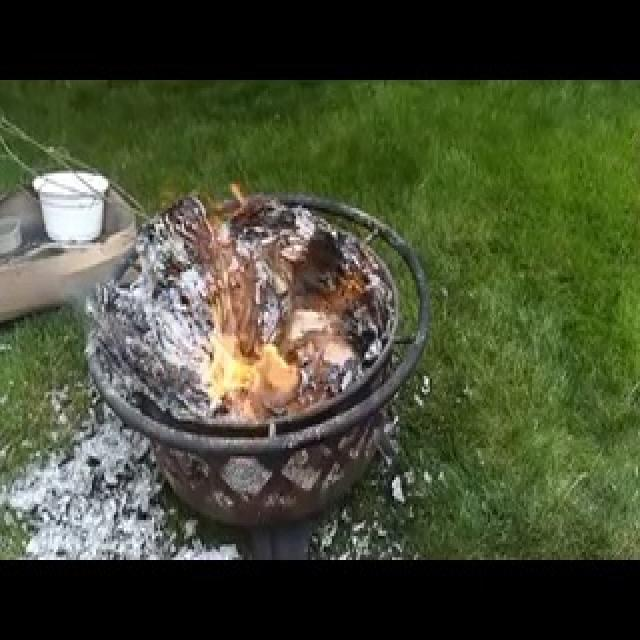fire: (186, 278, 330, 436)
